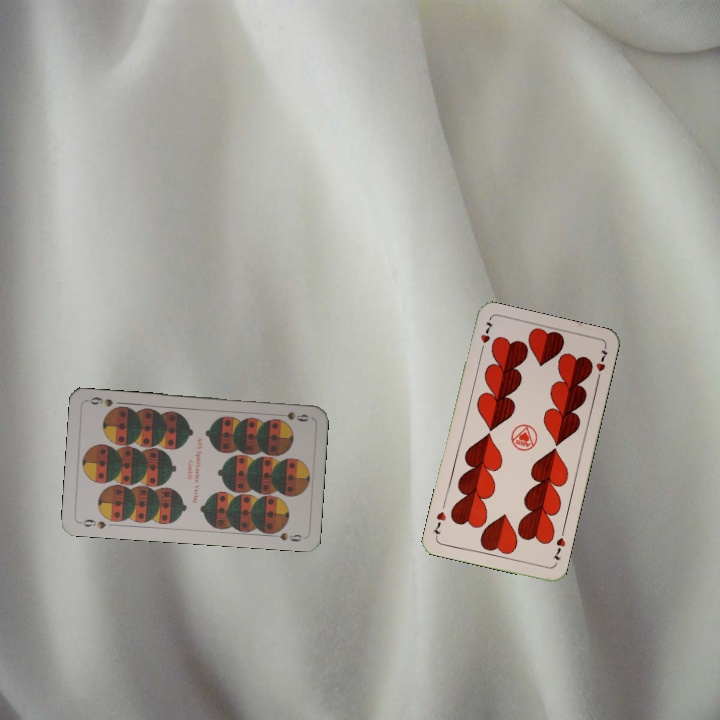H7: (477, 318, 496, 356), (549, 533, 568, 563)
S9: (272, 408, 311, 424), (76, 515, 108, 531)
